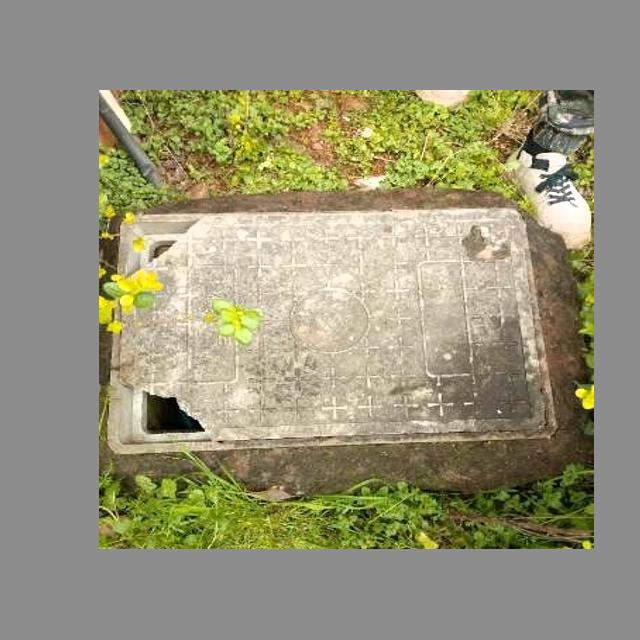broke: (117, 215, 550, 437)
